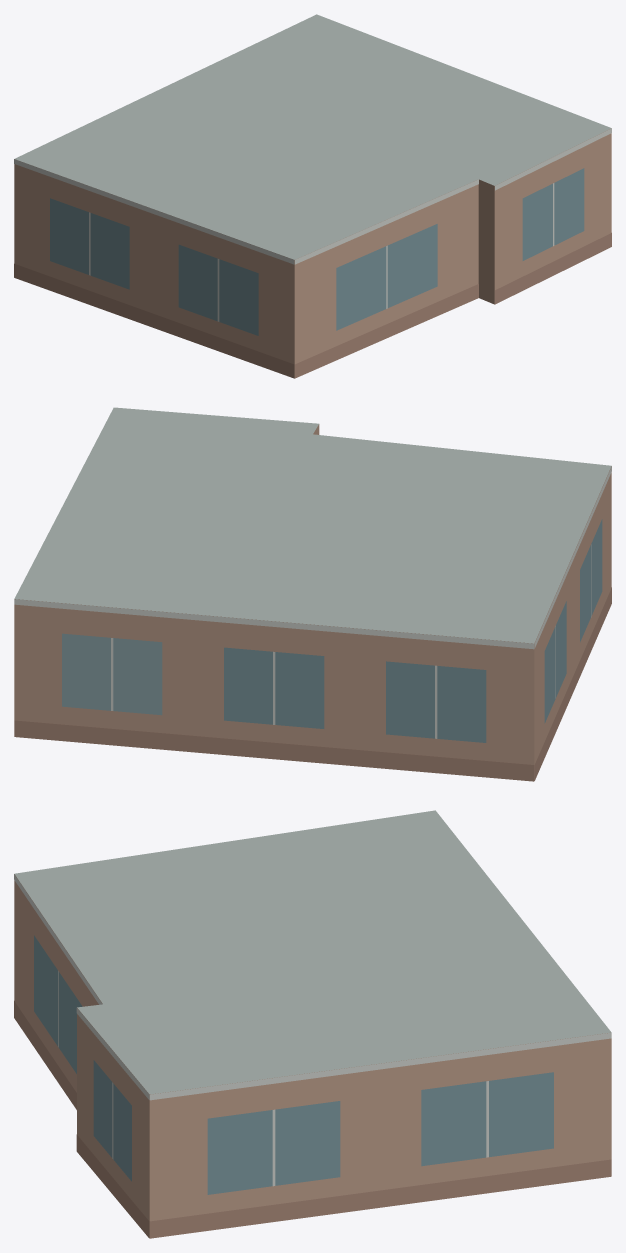
Rendered from survey-upis-32612931.glb.
The picture shows the model from 3 angles, top to bottom: view 1: azimuth 30°, elevation 25°; view 2: azimuth 150°, elevation 25°; view 3: azimuth 270°, elevation 25°; orthographic projection. The views are drawn at different scales.
Parts seen in each view (by area): view 1: survey-upis-32612931.tmp; view 2: survey-upis-32612931.tmp; view 3: survey-upis-32612931.tmp.
Boxes of the visible parts, box(x1,y1,x2,y2) form: survey-upis-32612931.tmp: box(14, 14, 611, 378); survey-upis-32612931.tmp: box(14, 407, 611, 781); survey-upis-32612931.tmp: box(14, 810, 611, 1238).
Size of the model in its own units: 12.91 by 3.05 by 11.47.
